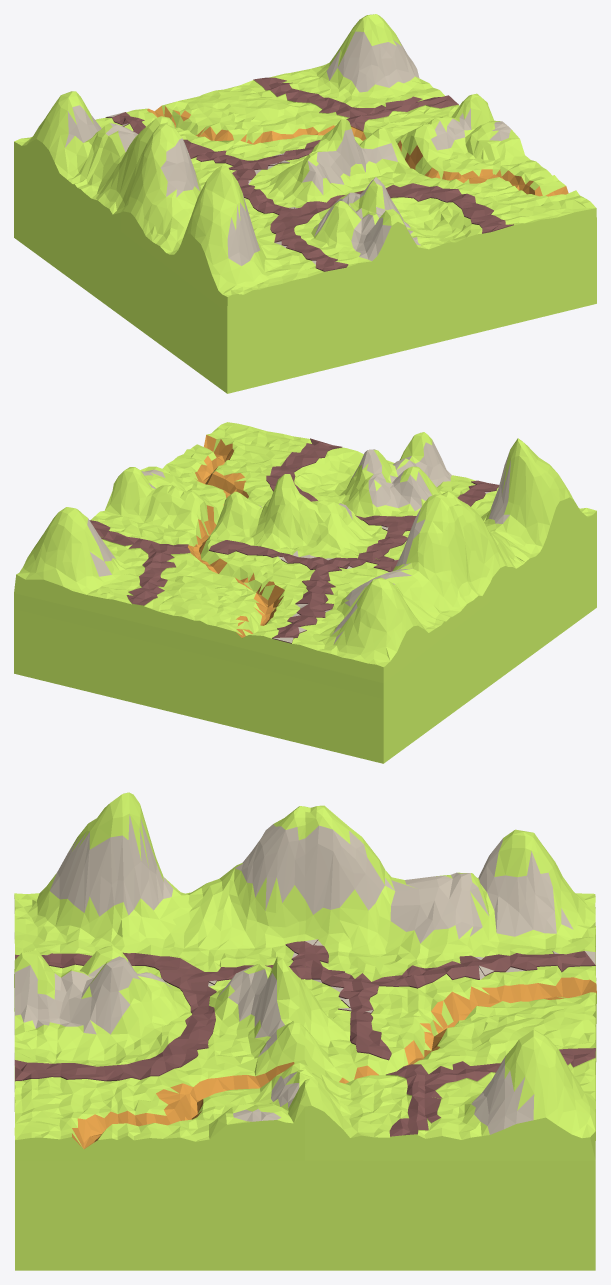
Rendered from Forest.fbx.
3 views of the same model, one above another, from view 1: azimuth 30°, elevation 25°; view 2: azimuth 150°, elevation 25°; view 3: azimuth 270°, elevation 25° (orthographic). The views are drawn at different scales.
Visible parts, largest first — view 1: Forest; view 2: Forest; view 3: Forest.
Boxes of the visible parts, x1,y1,x2,y2 form: Forest: (14,14,596,393); Forest: (14,422,596,763); Forest: (14,792,596,1270).
Bounding box in the file's own units: 20135 × 9778 × 20075.
